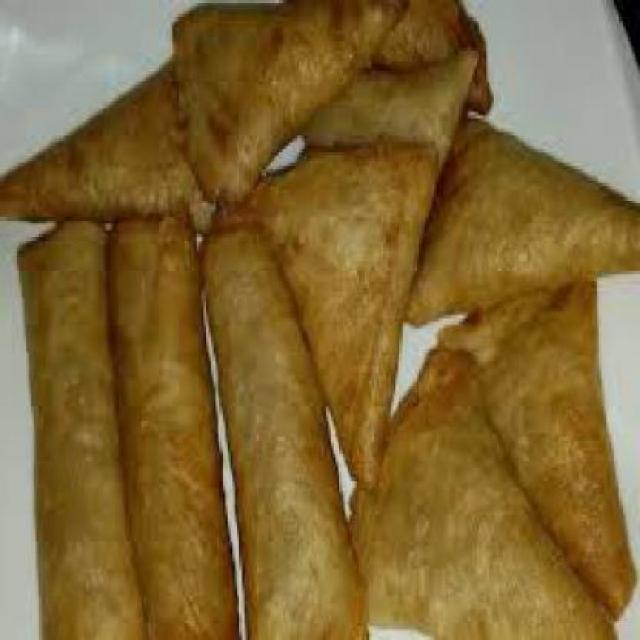samosa: (350, 125, 638, 637)
spring rolls: (36, 213, 329, 636)
